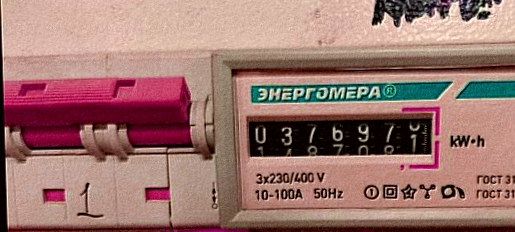0: (252, 122, 268, 144)
1: (408, 132, 420, 153)
3: (279, 123, 294, 147)
6: (331, 120, 344, 141)
7: (305, 120, 319, 144), (382, 119, 396, 143)
9: (356, 120, 369, 143)
screen: (239, 103, 444, 177)
